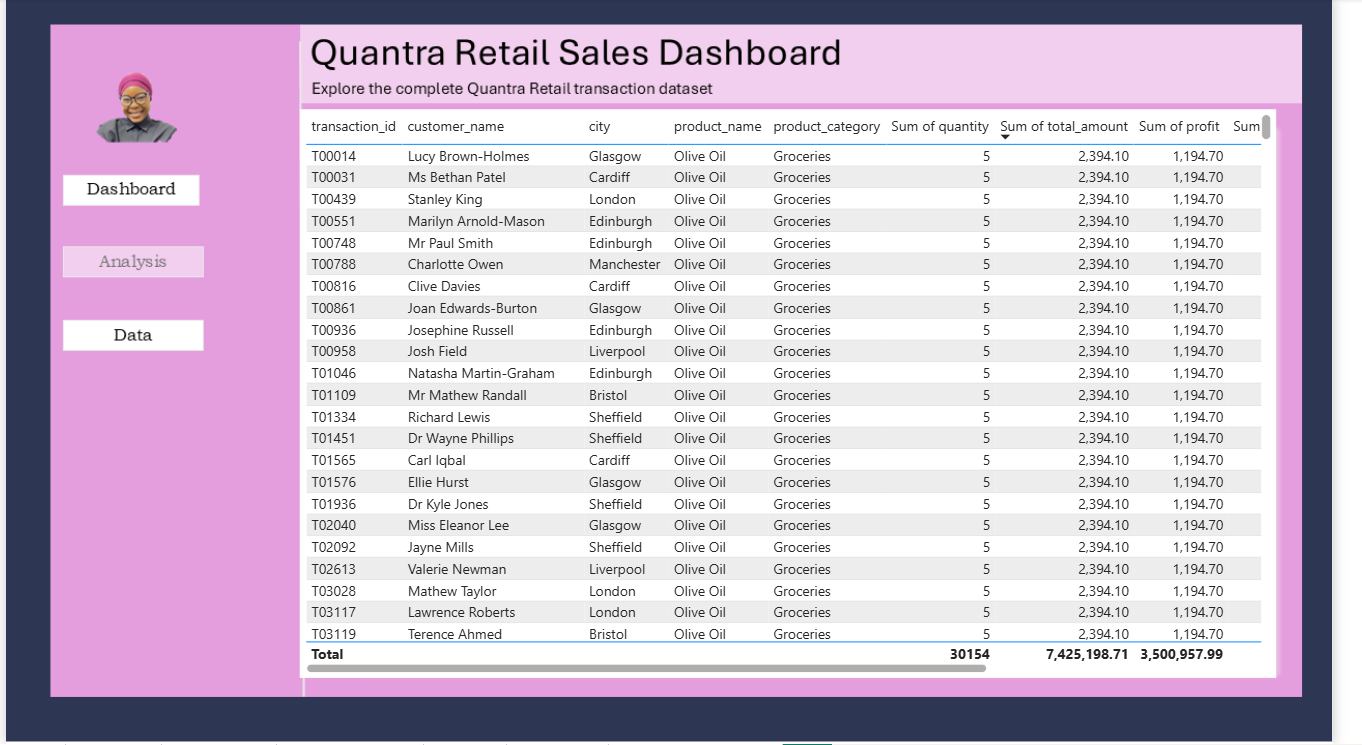

What the dashboard file says about the page in this screenshot:
{"tool":"powerbi","page":{"name":"Data","canvas":[1280,720],"ordinal":4},"visuals":[{"type":"tableEx","fields":{"Values":["transactions_cleaned.transaction_id","customers_cleaned.customer_name","customers_cleaned.city","products_cleaned.product_name","products_cleaned.product_category","Sum(transactions_cleaned.quantity)","Sum(transactions_cleaned.total_amount)","Sum(transactions_cleaned.profit)","Sum(transactions_cleaned.profit_margin)","transactions_cleaned.store_type","transactions_cleaned.payment_method","Sum(transactions_cleaned.year)"]},"box":[283.5,107.4,942.2,548.9],"z":0}]}

Visuals, with their boxes on the page's 1280x720 design canvas (x1, y1, x2, y2). These are canvas units, not pixel positions in the 1362x745 screenshot, which may show the page scaled, cropped or inside an application window:
tableEx - transactions_cleaned.transaction_id x customers_cleaned.customer_name: region(284, 107, 1226, 656)
